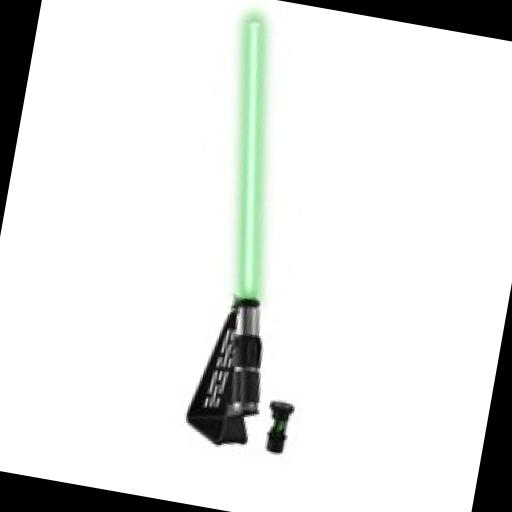lightsaber: (176, 8, 325, 421)
